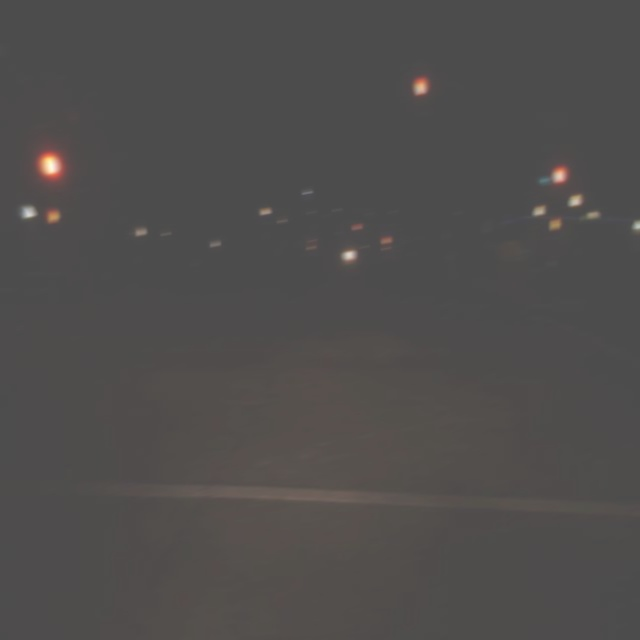stop: (40, 155, 62, 196), (552, 163, 566, 206), (414, 75, 428, 116), (384, 236, 388, 252), (309, 237, 313, 248), (355, 223, 359, 232)
stop traffic light: (40, 155, 62, 196), (552, 163, 566, 206), (414, 75, 428, 116), (384, 236, 388, 252), (309, 237, 313, 248), (355, 223, 359, 232)
